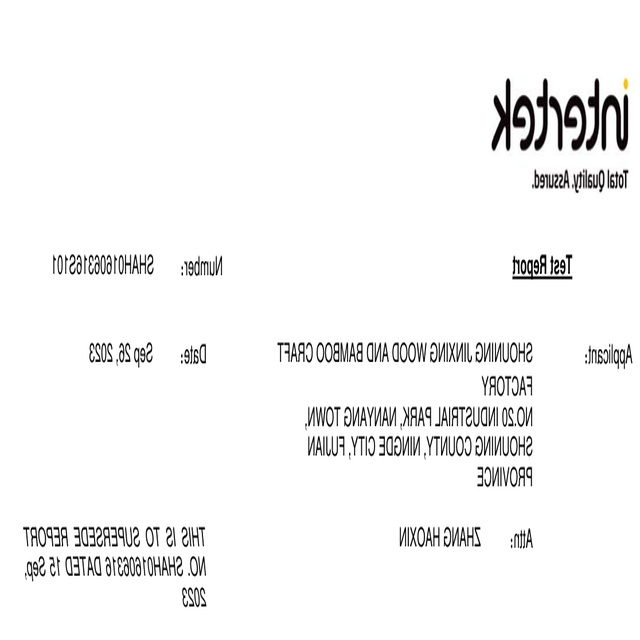intertek: (484, 66, 640, 159)
